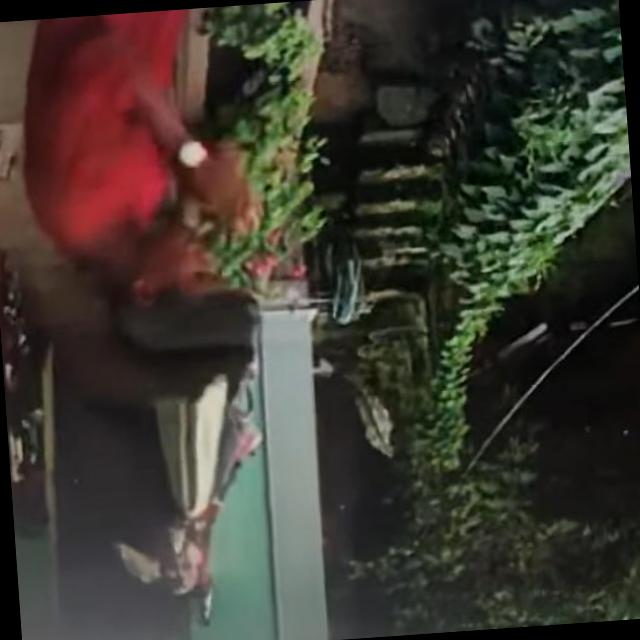cigarette: (176, 194, 250, 263)
